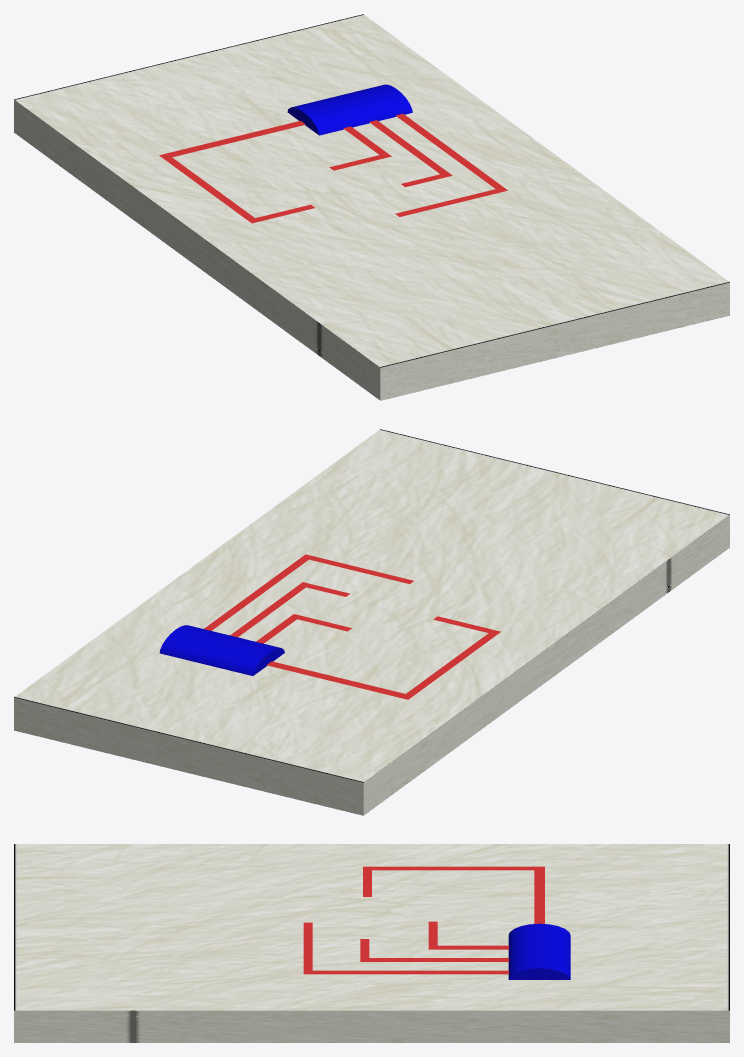
The model's file is Minigame_background.fbx.
3 views of the same model, one above another, from view 1: azimuth 30°, elevation 25°; view 2: azimuth 150°, elevation 25°; view 3: azimuth 270°, elevation 25° (orthographic). The views are drawn at different scales.
Parts seen in each view (by area): view 1: polySurface2, polySurface8; view 2: polySurface2, polySurface8; view 3: polySurface2, polySurface8.
Boxes of the visible parts, left/top/right/bottom form: polySurface2: left=14, top=14, right=729, bottom=400; polySurface8: left=159, top=84, right=507, bottom=223; polySurface2: left=14, top=429, right=729, bottom=815; polySurface8: left=159, top=554, right=500, bottom=699; polySurface2: left=14, top=844, right=729, bottom=1042; polySurface8: left=303, top=866, right=570, bottom=979.
Size of the model in its own units: 21.76 by 2.69 by 39.51.
3 materials, 1 textured.
